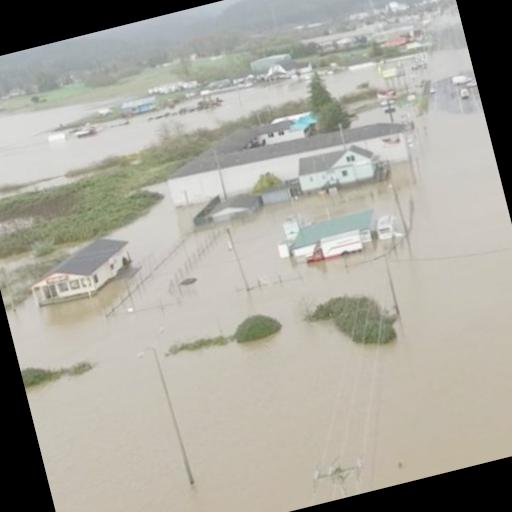flood: (6, 106, 512, 512), (0, 105, 159, 184), (175, 82, 304, 128), (326, 68, 382, 96), (428, 47, 473, 80), (0, 253, 41, 281), (353, 108, 389, 126), (394, 100, 411, 121)
house: (25, 234, 140, 314), (277, 202, 387, 274), (288, 136, 384, 202), (255, 114, 309, 150)
